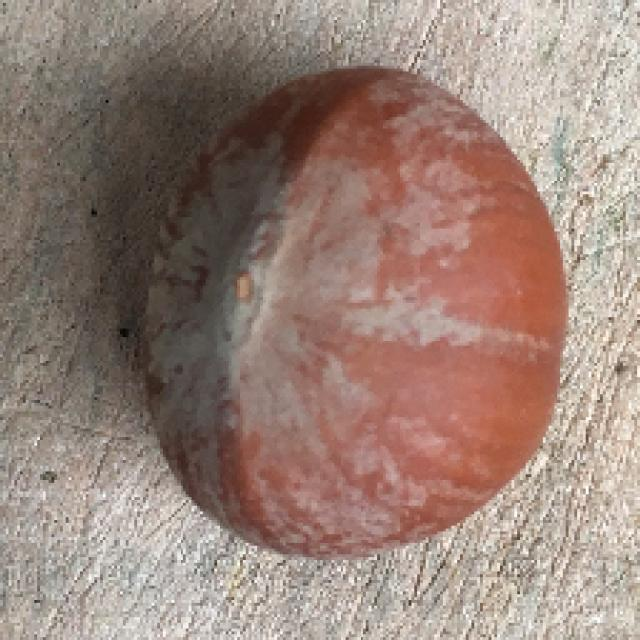qualityHazelnut: (121, 57, 572, 563)
